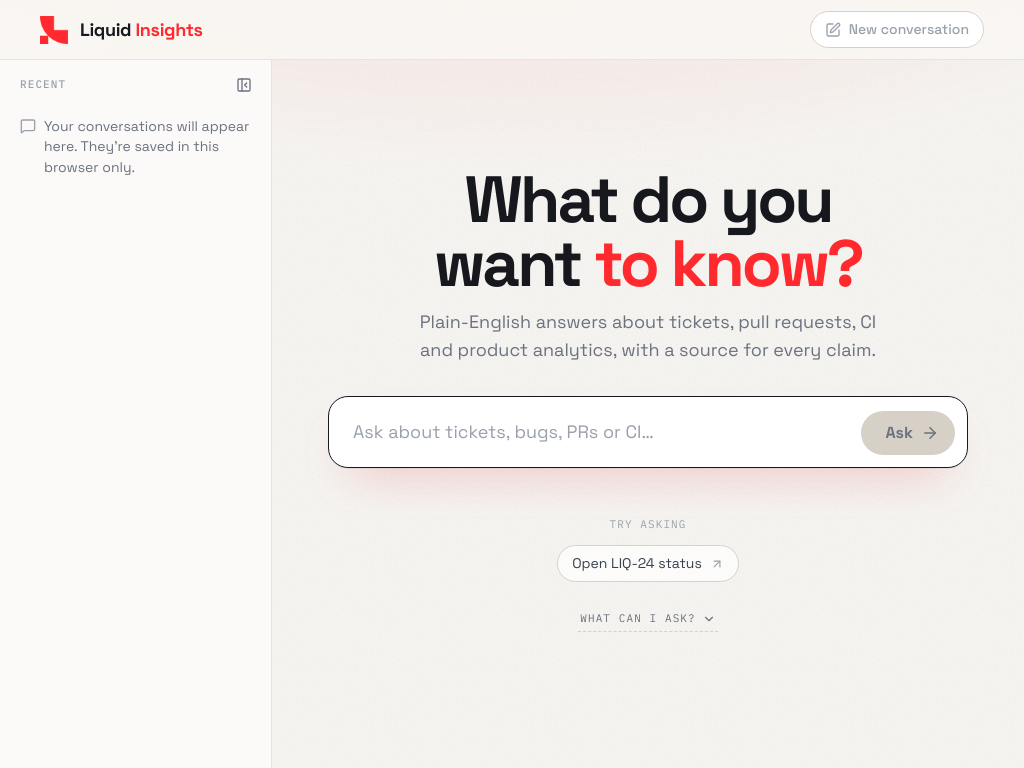
Test: App › shows an error card when the stream reports a failure
Click the button "Open LIQ-24 status" at (648, 564), box [557, 545, 739, 582]
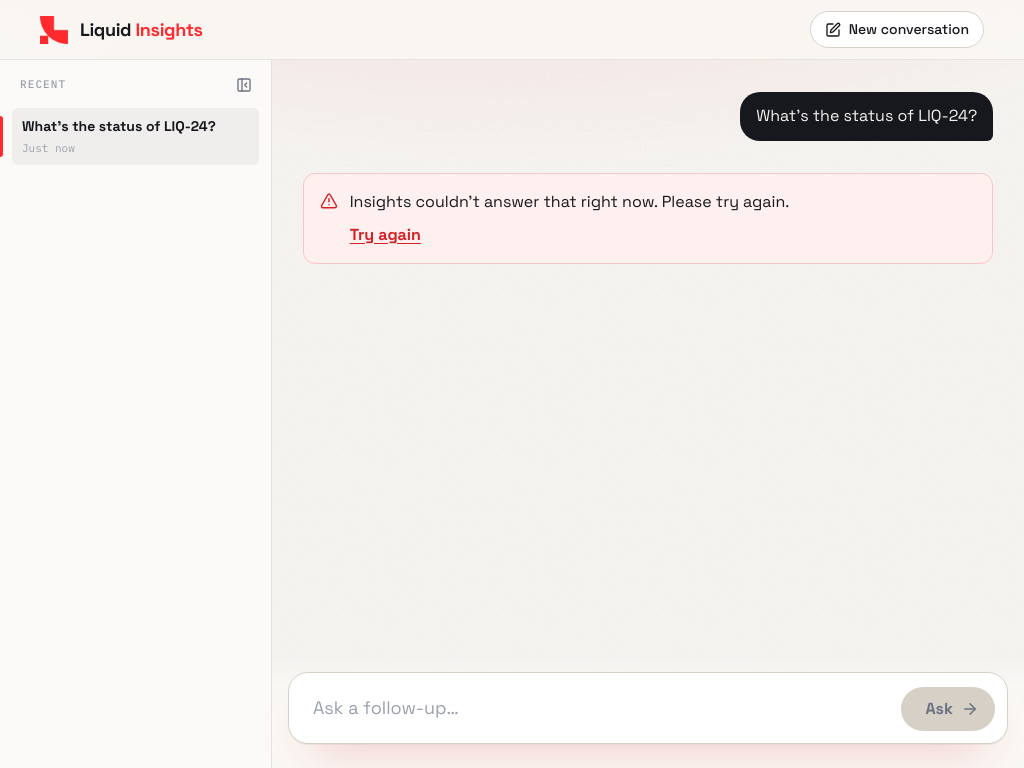
Result: the text "Insights couldn't answer that right now. Please try again." is shown at [350, 190, 789, 215]
Result: the button "Try again" is shown at [350, 223, 421, 247]
